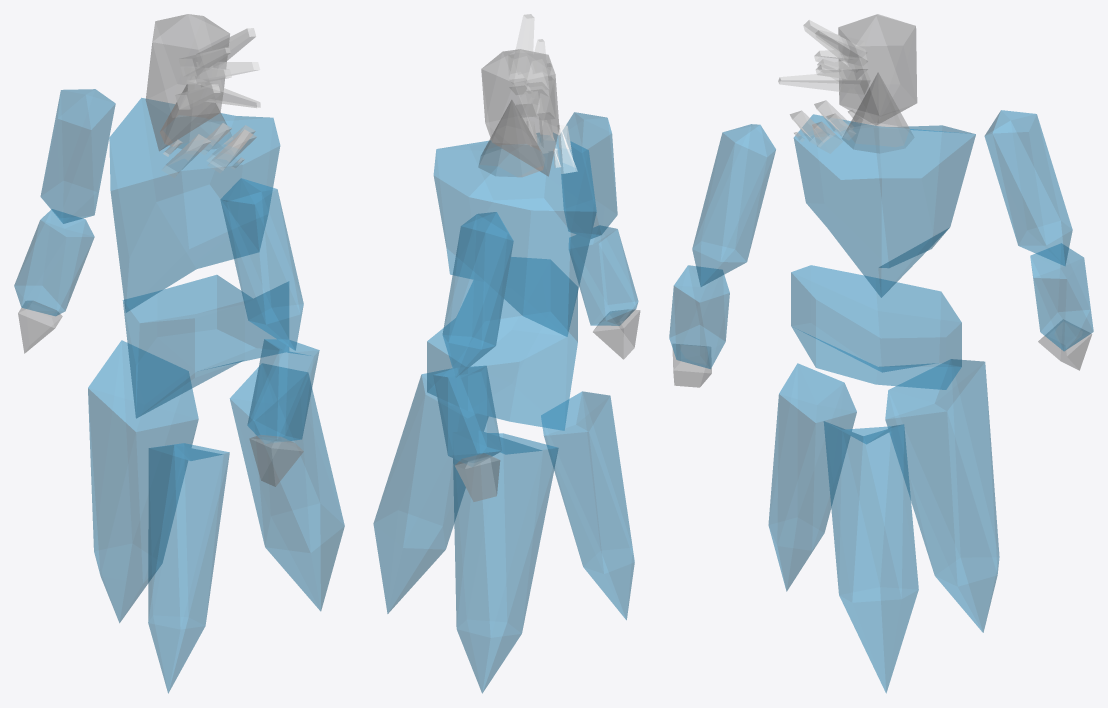
Rendered from spectro.obj.
3 views of the same model, side by side, from view 1: azimuth 30°, elevation 25°; view 2: azimuth 150°, elevation 25°; view 3: azimuth 270°, elevation 25° (orthographic). The views are drawn at different scales.
Visible parts, largest first — view 1: Cube.001_Cube.002, Icosphere.002, Icosphere.001, Cube_Cube.001, Icosphere, Icosphere.005_Icosphere.006, Icosphere.003_Icosphere.005, Icosphere.007_Icosphere.009, Icosphere.006_Icosphere.007, Icosphere.008_Icosphere.010, Cone_Cone.001, Cube.002_Cube.003 (+8 smaller); view 2: Cube.001_Cube.002, Cube_Cube.001, Icosphere.002, Icosphere.001, Icosphere, Icosphere.007_Icosphere.009, Icosphere.003_Icosphere.005, Icosphere.005_Icosphere.006, Icosphere.008_Icosphere.010, Icosphere.006_Icosphere.007, Cone_Cone.001, Cube.003_Cube.004 (+6 smaller); view 3: Cube.001_Cube.002, Icosphere.002, Icosphere.001, Cube_Cube.001, Icosphere, Icosphere.005_Icosphere.006, Icosphere.007_Icosphere.009, Icosphere.003_Icosphere.005, Icosphere.006_Icosphere.007, Icosphere.008_Icosphere.010, Cone_Cone.001, Cube.003_Cube.004 (+4 smaller).
Part boxes in pixels (box(x1,y1,x2,y2)): Cube.001_Cube.002: box(109, 98, 280, 312); Icosphere.002: box(88, 340, 198, 622); Icosphere.001: box(230, 363, 344, 611); Cube_Cube.001: box(122, 275, 288, 418); Icosphere: box(148, 443, 229, 693); Icosphere.005_Icosphere.006: box(220, 178, 303, 350); Icosphere.003_Icosphere.005: box(145, 14, 229, 151); Icosphere.007_Icosphere.009: box(40, 89, 115, 223); Icosphere.006_Icosphere.007: box(247, 339, 319, 443); Icosphere.008_Icosphere.010: box(14, 209, 94, 316); Cone_Cone.001: box(160, 84, 231, 149); Cube.002_Cube.003: box(249, 435, 303, 486); Cube.001_Cube.002: box(433, 133, 596, 336); Cube_Cube.001: box(427, 257, 577, 430); Icosphere.002: box(453, 430, 558, 693); Icosphere.001: box(373, 368, 487, 613); Icosphere: box(541, 391, 634, 619); Icosphere.007_Icosphere.009: box(442, 212, 513, 377); Icosphere.003_Icosphere.005: box(481, 49, 559, 176); Icosphere.005_Icosphere.006: box(560, 112, 617, 238); Icosphere.008_Icosphere.010: box(433, 365, 501, 466); Icosphere.006_Icosphere.007: box(569, 225, 638, 325); Cone_Cone.001: box(478, 100, 543, 177); Cube.003_Cube.004: box(455, 453, 500, 501); Cube.001_Cube.002: box(793, 114, 975, 297); Icosphere.002: box(885, 359, 999, 632); Icosphere.001: box(823, 421, 918, 693); Cube_Cube.001: box(791, 265, 961, 389); Icosphere: box(768, 363, 856, 591); Icosphere.005_Icosphere.006: box(692, 124, 775, 286); Icosphere.007_Icosphere.009: box(984, 110, 1072, 265); Icosphere.003_Icosphere.005: box(838, 14, 917, 124); Icosphere.006_Icosphere.007: box(669, 265, 729, 368); Icosphere.008_Icosphere.010: box(1030, 243, 1093, 351); Cone_Cone.001: box(842, 72, 914, 153); Cube.003_Cube.004: box(1038, 319, 1091, 370).
Size of the model in its own units: 16.84 by 46.45 by 28.3.
Materials: 1 (1 with a texture image).
